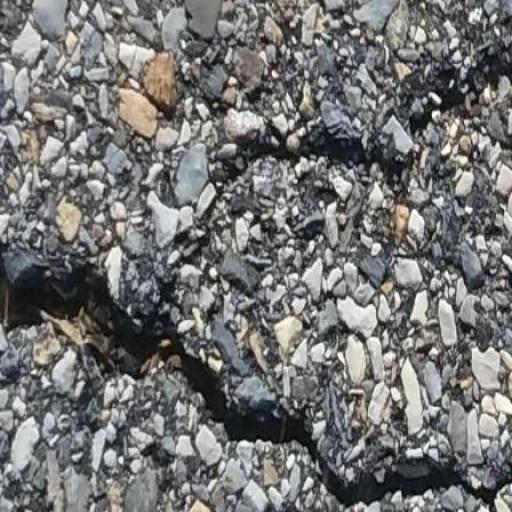spalling: (0, 250, 497, 512)
